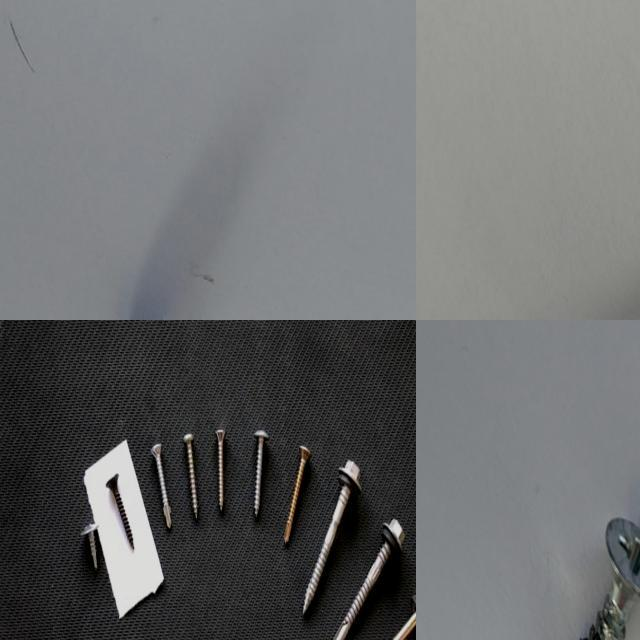Screw: (303, 459, 362, 613), (333, 518, 405, 640), (579, 518, 640, 640), (284, 444, 311, 544), (106, 472, 134, 549), (150, 442, 169, 512), (183, 432, 198, 518), (254, 429, 268, 516), (80, 522, 97, 569), (216, 428, 225, 511), (165, 512, 171, 528)
